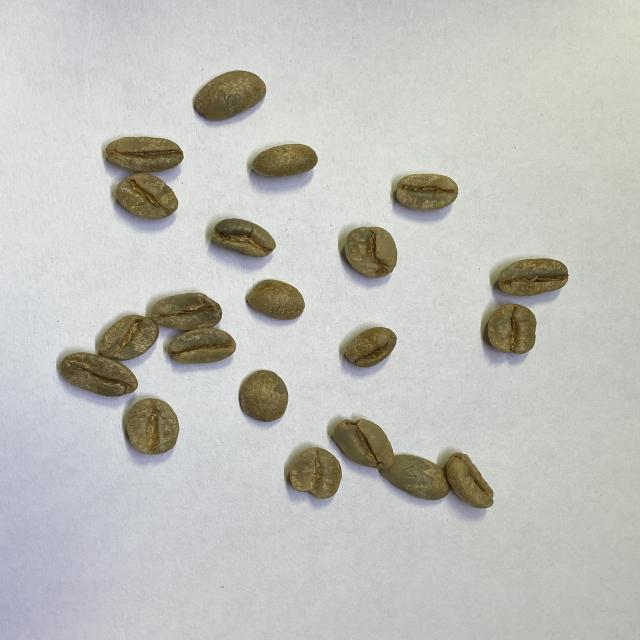bad: (446, 449, 494, 512), (334, 419, 394, 469), (342, 226, 398, 278), (211, 217, 276, 258), (153, 292, 222, 329)
good: (191, 69, 268, 123), (57, 351, 139, 396), (124, 398, 181, 454), (382, 453, 448, 501), (114, 174, 179, 221), (104, 137, 184, 175), (97, 313, 159, 362), (496, 257, 568, 299), (287, 446, 343, 499), (239, 368, 291, 423), (251, 141, 321, 180), (166, 328, 237, 366), (394, 173, 460, 213), (246, 279, 306, 323), (487, 303, 536, 355), (345, 326, 398, 368)
